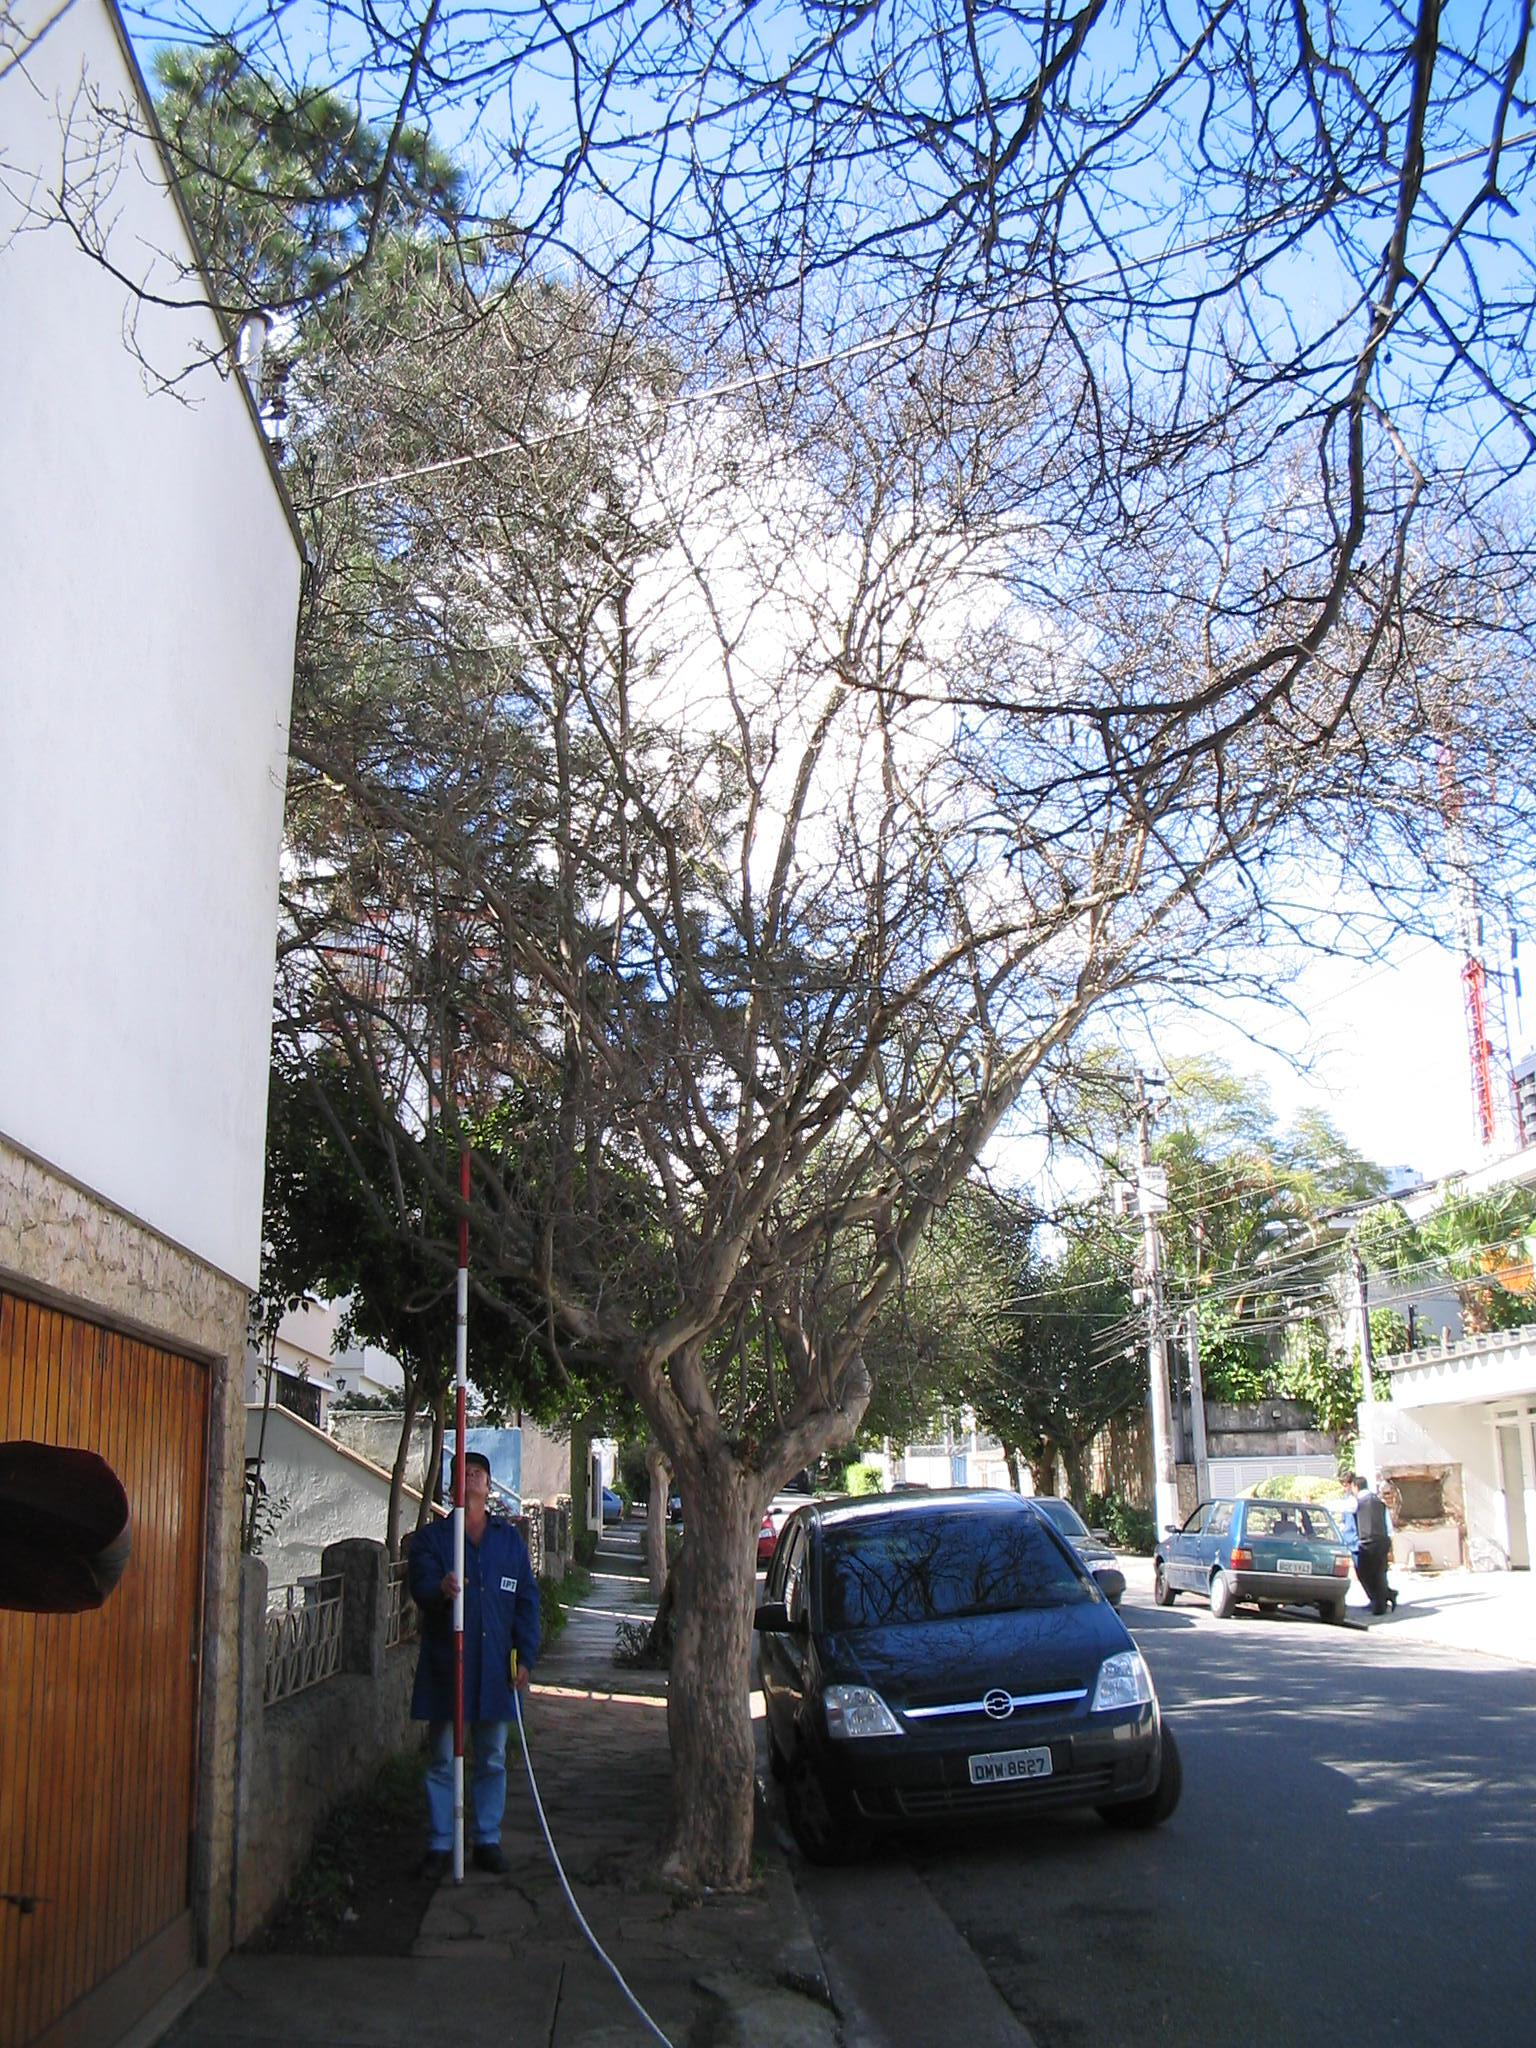stem: (603, 1463, 849, 1882)
stick: (410, 1150, 502, 1879)
tree: (274, 284, 1528, 1892)
